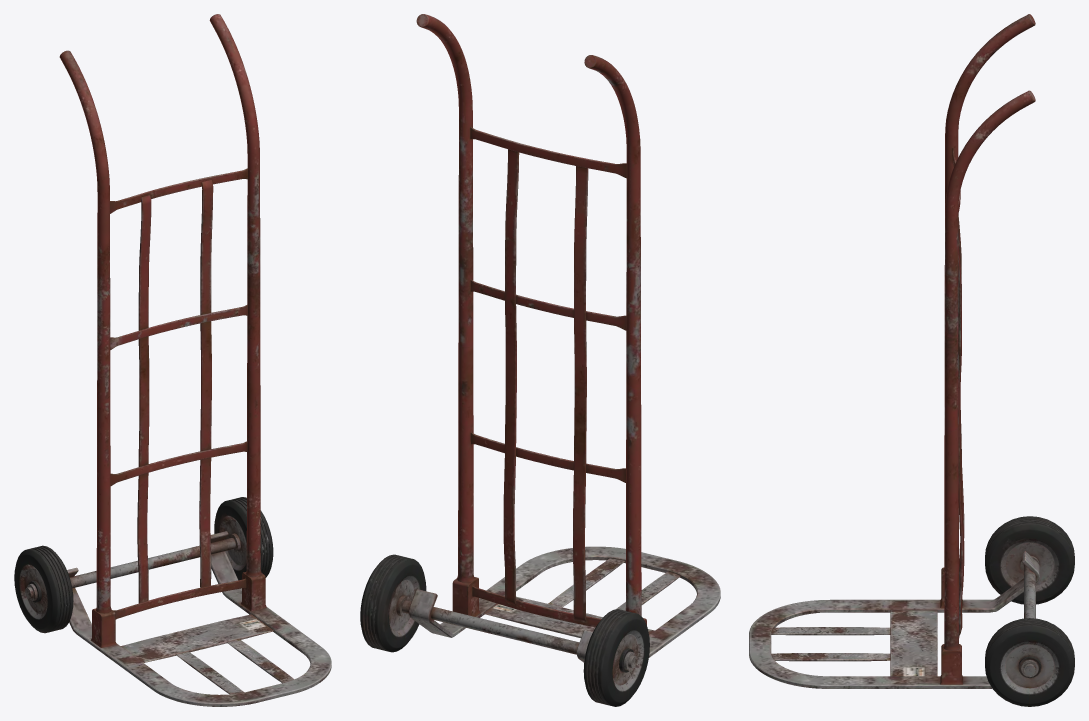
The model's file is hand_truck.glb.
3 renders of one model, left to right at view 1: azimuth 30°, elevation 25°; view 2: azimuth 150°, elevation 25°; view 3: azimuth 270°, elevation 25°, orthographic. The views are drawn at different scales.
Visible parts, largest first — view 1: hand_truck; view 2: hand_truck; view 3: hand_truck.
Part boxes in pixels (x1=…): hand_truck: x1=14, y1=14, x2=331, y2=706; hand_truck: x1=360, y1=14, x2=720, y2=706; hand_truck: x1=749, y1=14, x2=1074, y2=706.
Size of the model in its own units: 0.5933 by 1.4 by 0.6926.
Materials: 1 (1 with a texture image).
